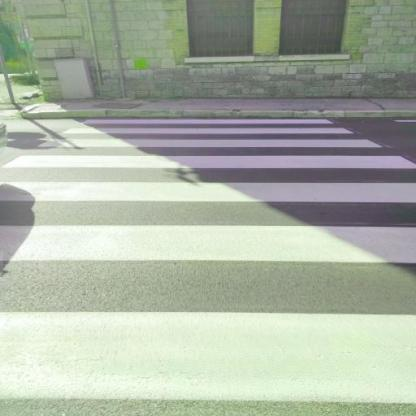crosswalk: (0, 178, 416, 276), (33, 125, 385, 153)
